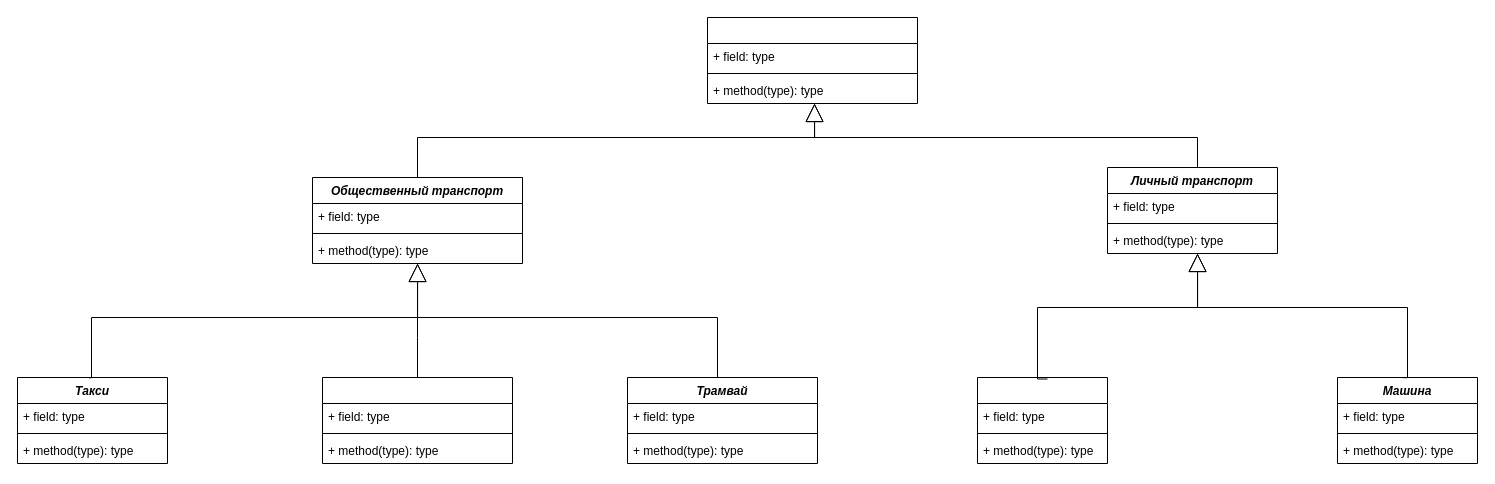
This 1495x484 diagram has some shape labels left out. The shapes that lost their labels are listed below. From the top down, each one's box as (x1, y1, x2, y2) in pixels, then its label:
(706, 16, 918, 104): АТранспортное средство
(322, 376, 512, 464): Автобус
(976, 376, 1108, 464): Самокат
